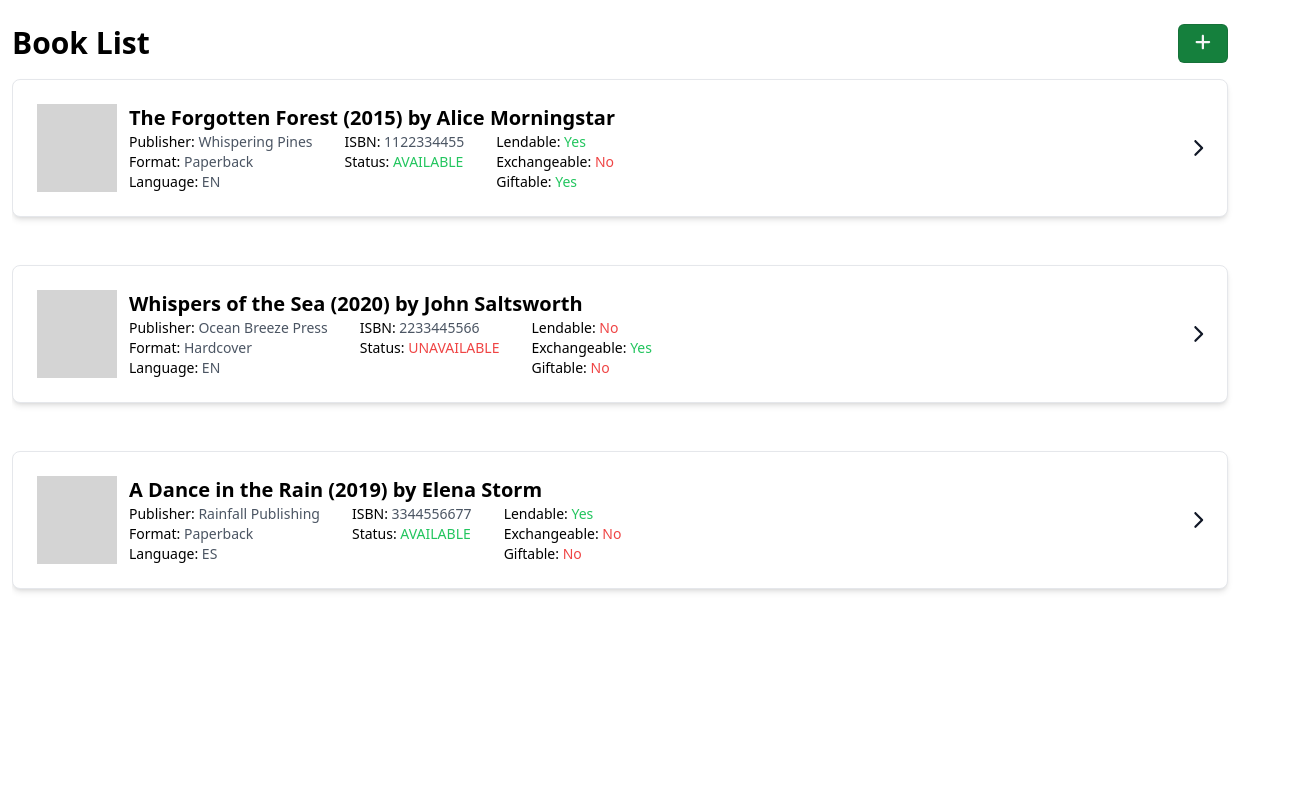
Scenario: UserLibraryMyBooks › displays "Cancel" button when the "Add Book" form is visible
Click the button with class "add-book-btn" at (1203, 43), box x1=1178 y1=24 x2=1228 y2=63
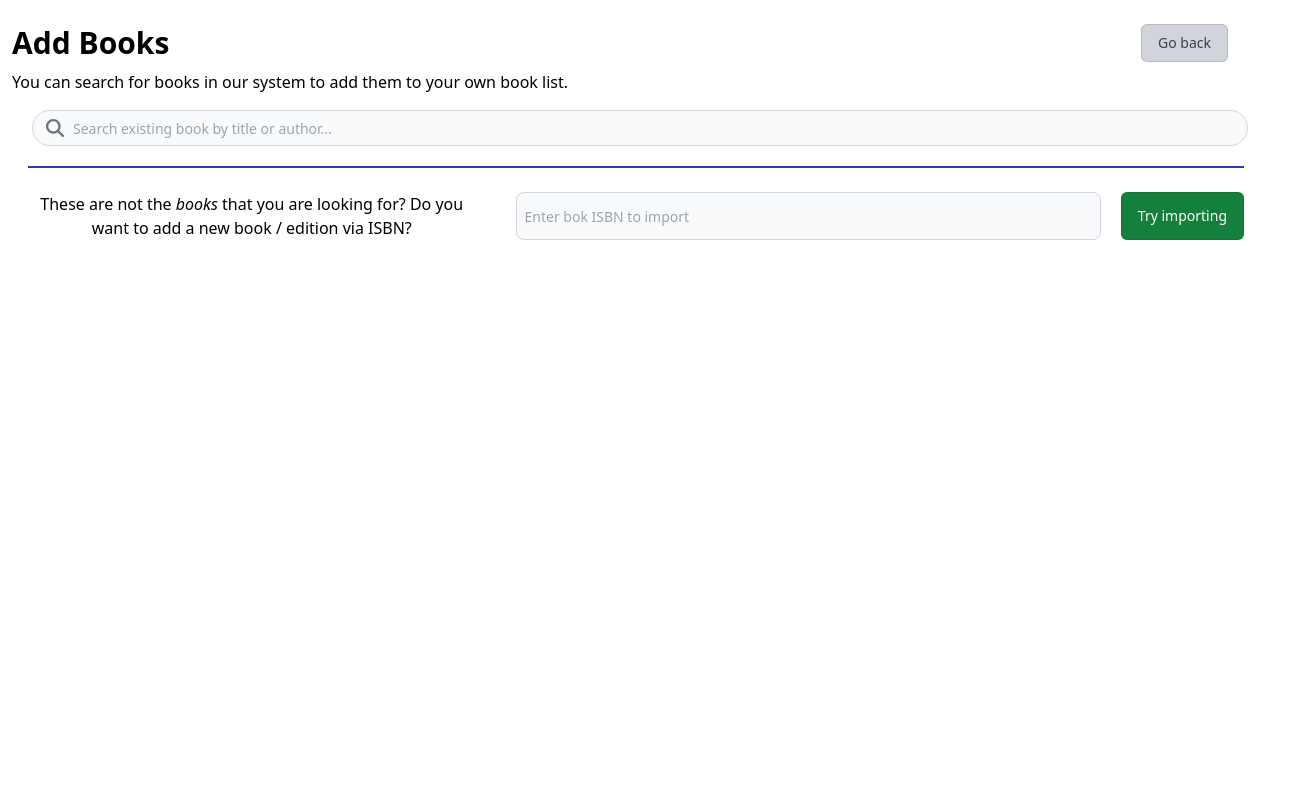
Result: the button with class "cancel-adding-btn" is shown at x1=1141 y1=24 x2=1228 y2=62
